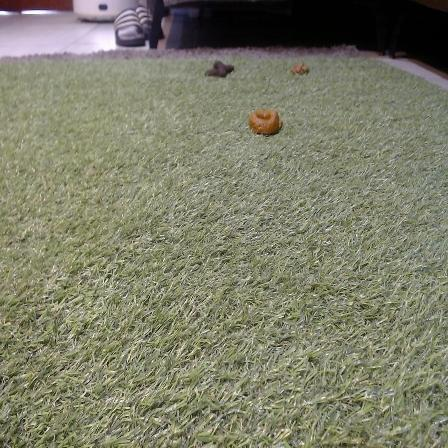dog-poop: (249, 106, 286, 136), (206, 58, 239, 84), (290, 56, 318, 79)
